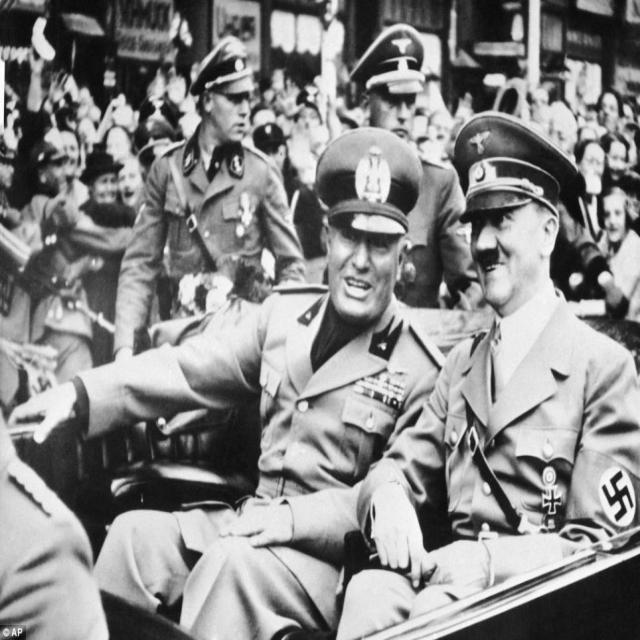body: (7, 124, 446, 640), (332, 108, 639, 640), (0, 0, 215, 639), (246, 64, 640, 323), (110, 30, 312, 361), (347, 18, 487, 313), (15, 137, 138, 384), (76, 147, 137, 481), (591, 180, 639, 322)
